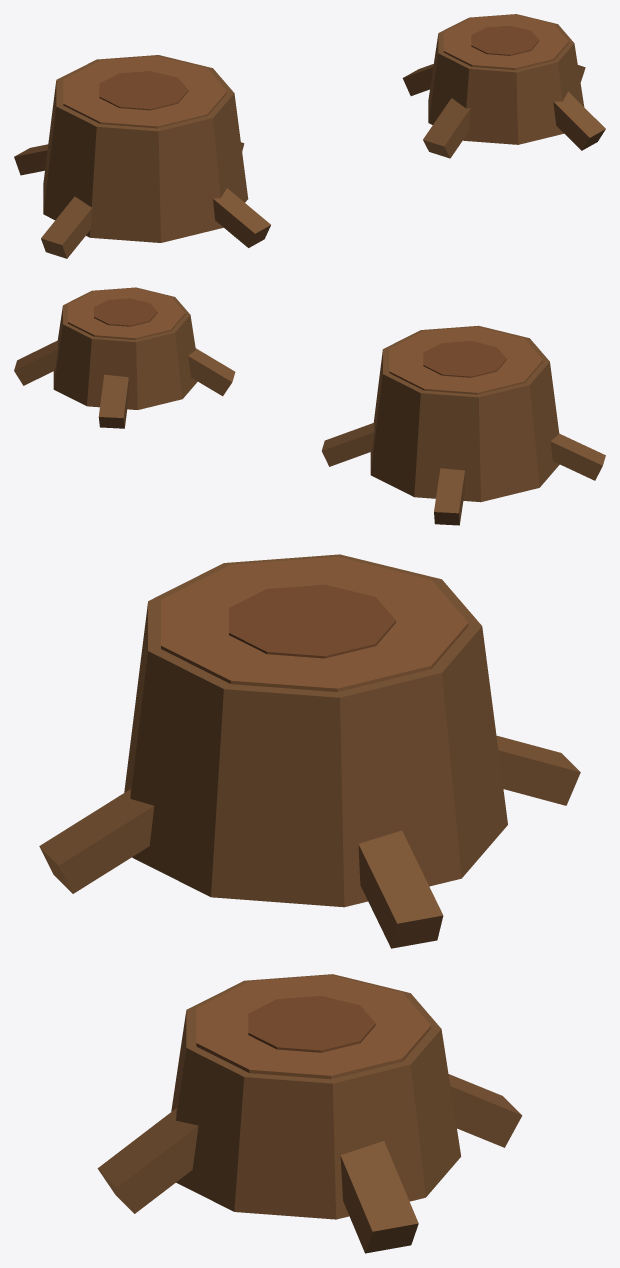
The model's file is tunggul_v001.glb.
3 renders of one model, top to bottom at view 1: azimuth 30°, elevation 25°; view 2: azimuth 150°, elevation 25°; view 3: azimuth 270°, elevation 25°, orthographic. The views are drawn at different scales.
Visible parts, largest first — view 1: Tunggul_A, Tunggul_B; view 2: Tunggul_A, Tunggul_B; view 3: Tunggul_A, Tunggul_B.
Part boxes in pixels (left/top/right/bottom): Tunggul_A: left=14, top=55, right=270, bottom=258; Tunggul_B: left=402, top=14, right=605, bottom=158; Tunggul_A: left=322, top=325, right=605, bottom=525; Tunggul_B: left=14, top=287, right=235, bottom=428; Tunggul_A: left=39, top=554, right=580, bottom=948; Tunggul_B: left=97, top=974, right=522, bottom=1253.
Size of the model in its own units: 4.04 by 0.7746 by 1.73.
